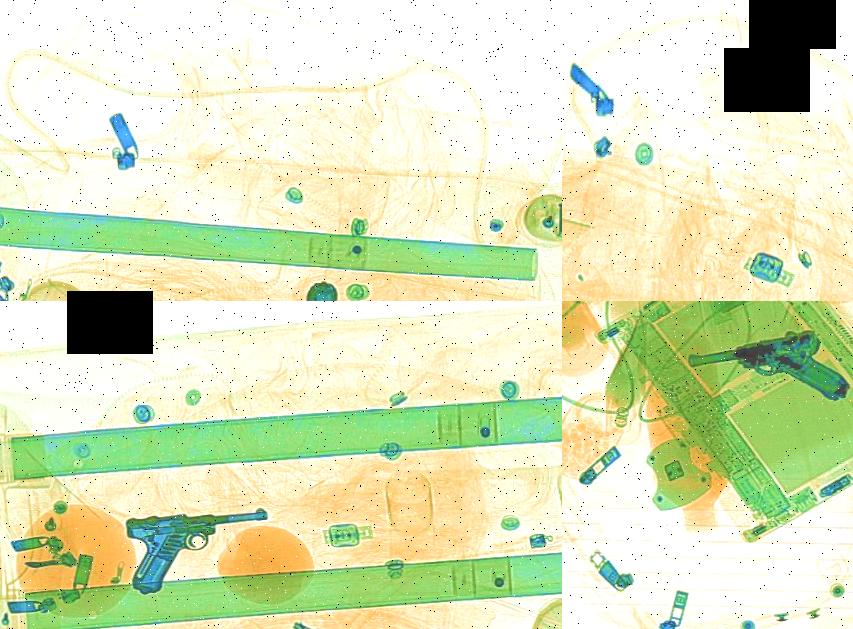Gun: (683, 321, 850, 425), (109, 502, 290, 596)
